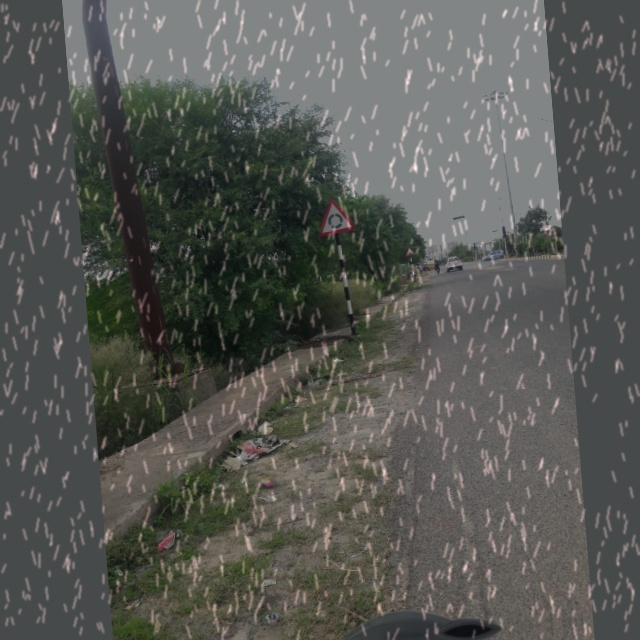Round_About: (310, 189, 365, 237)
